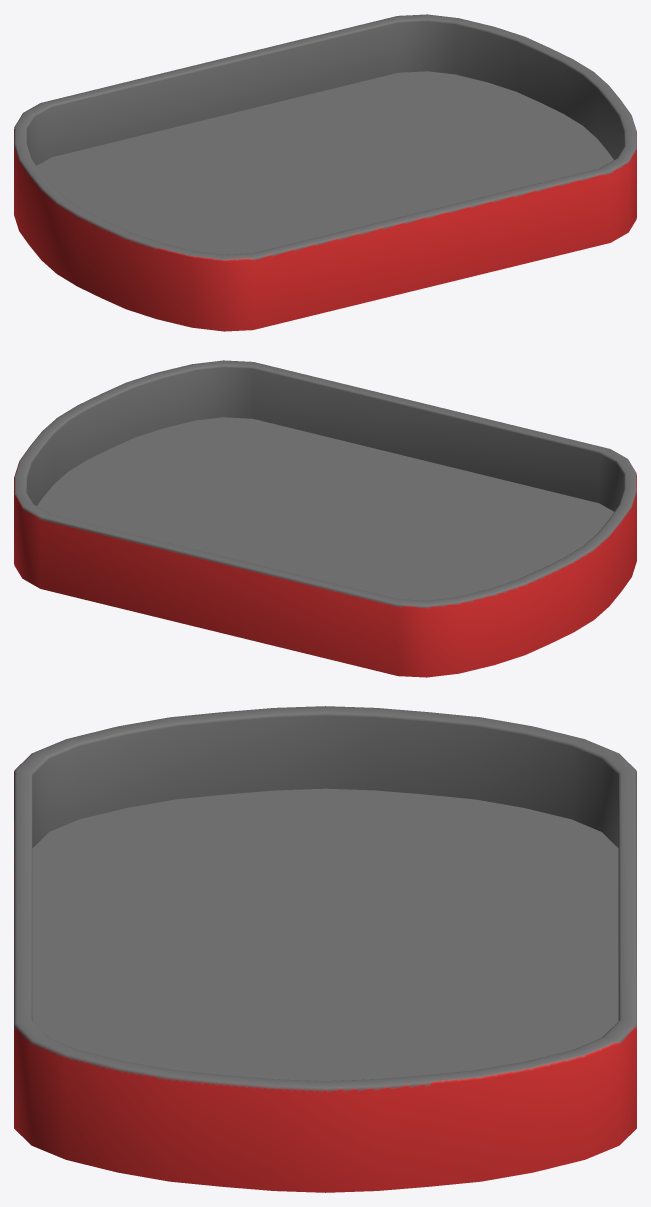
File: TunaMap_Can_only.fbx
3 renders of one model, top to bottom at view 1: azimuth 30°, elevation 25°; view 2: azimuth 150°, elevation 25°; view 3: azimuth 270°, elevation 25°, orthographic. The views are drawn at different scales.
Parts seen in each view (by area): view 1: Dose_lp.002; view 2: Dose_lp.002; view 3: Dose_lp.002.
Part boxes in pixels (x1=…): Dose_lp.002: x1=14, y1=14, x2=636, y2=331; Dose_lp.002: x1=14, y1=360, x2=636, y2=677; Dose_lp.002: x1=14, y1=706, x2=636, y2=1192.
Bounding box in the file's own units: 5623 × 717 × 3864.
